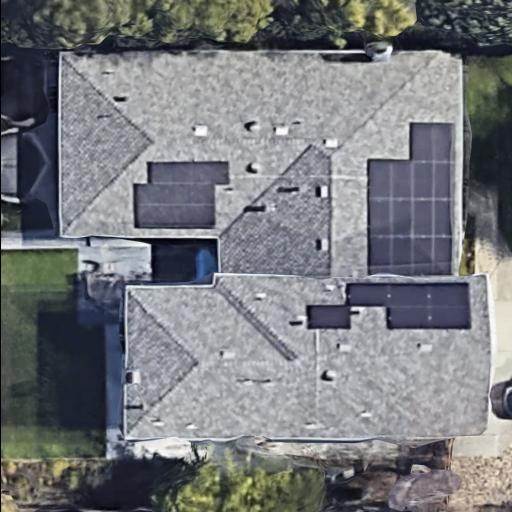Solar-Slope-Roof: (59, 51, 487, 439)
